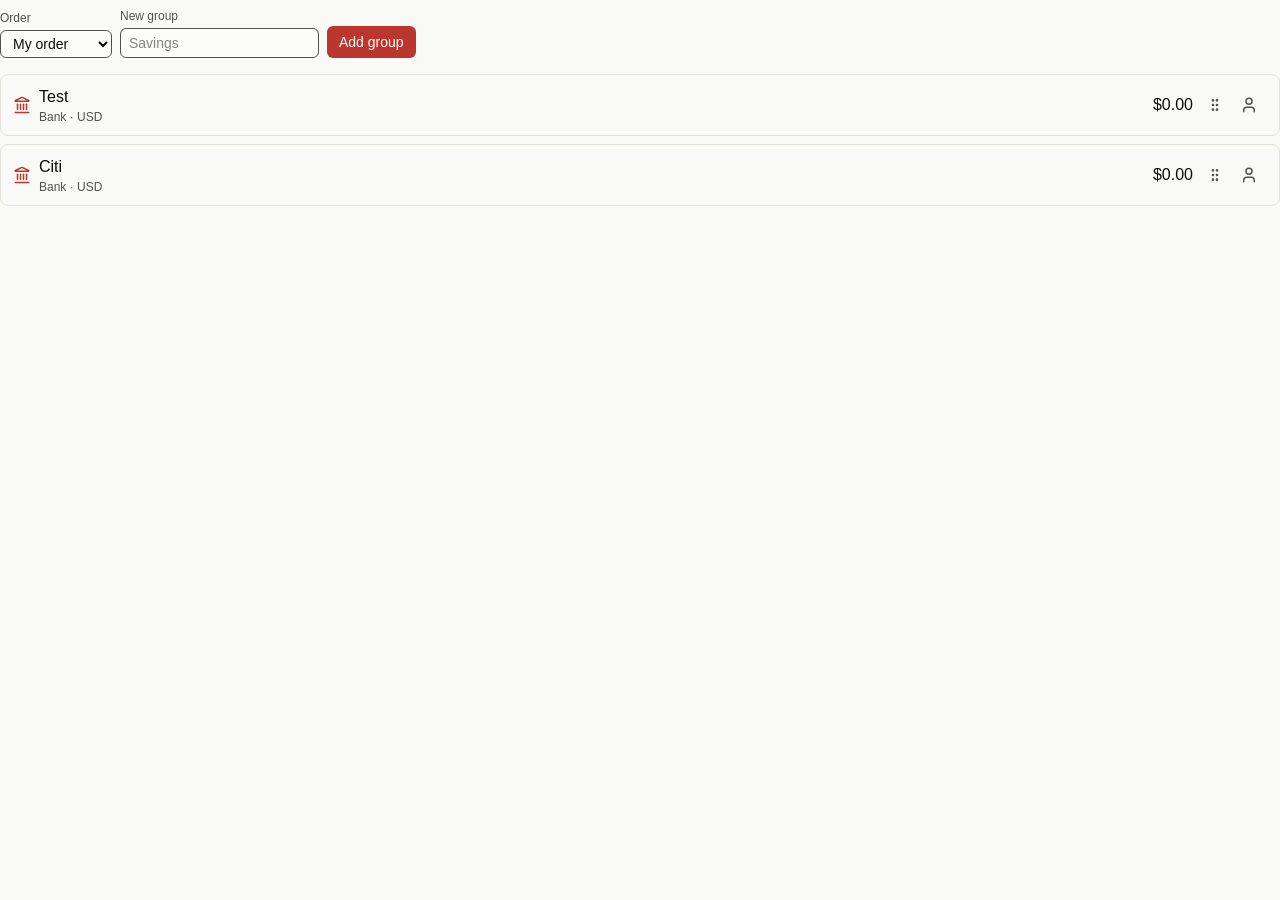
Test: WalletList — members and edit dialogs › opens ONLY that wallet's members, in a dialog named after it
The width and height of the screenshot is (1280, 900).
Click the button named "Members of Test" at (1249, 105), box [1231, 83, 1267, 127]
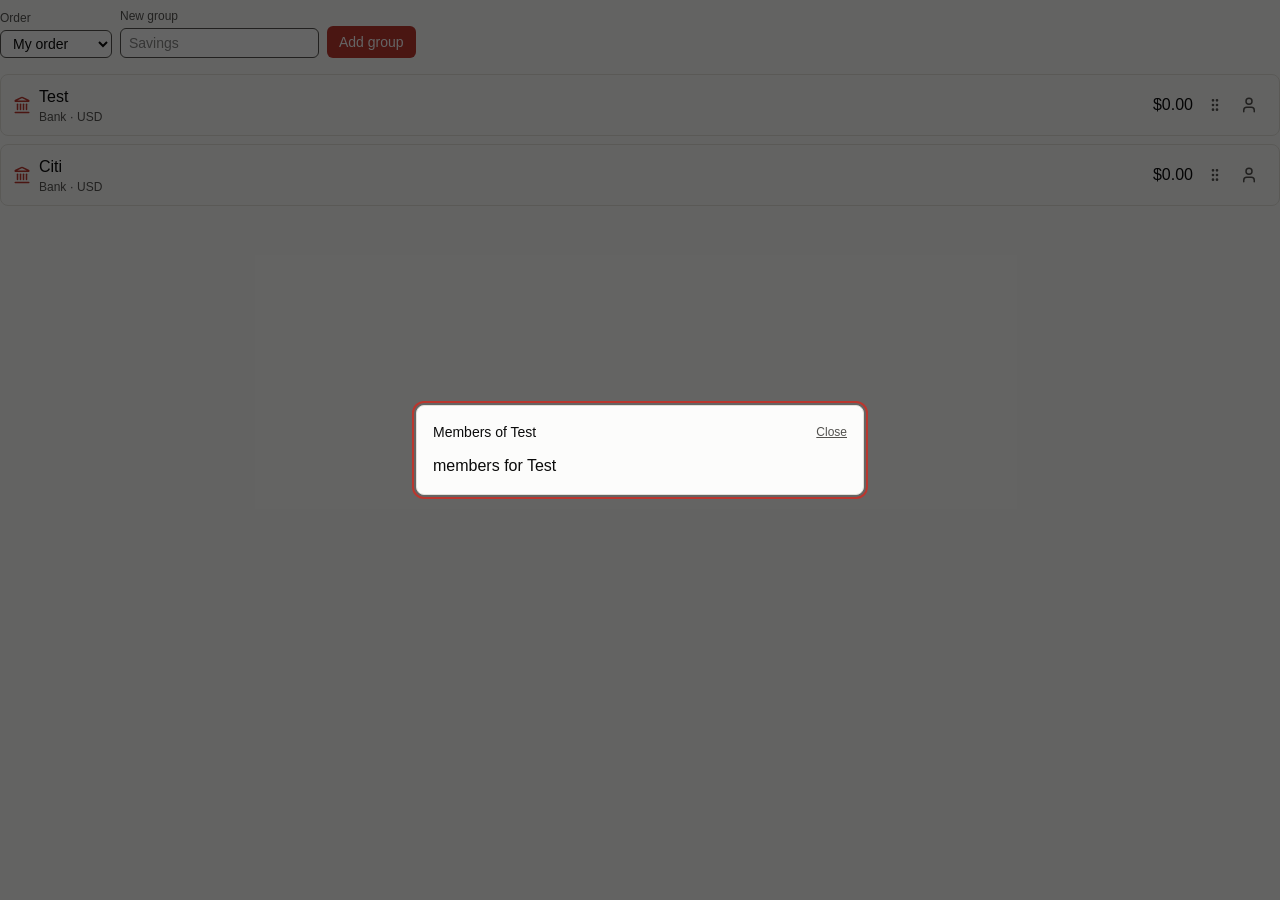
Now the dialog "Members of Test" is shown, box [416, 405, 864, 495]
Now the text "members for Test" is shown, box [433, 457, 556, 474]
